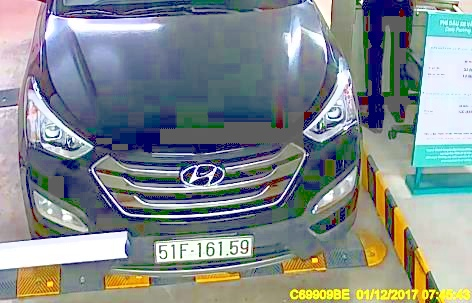plate: (150, 234, 256, 263)
